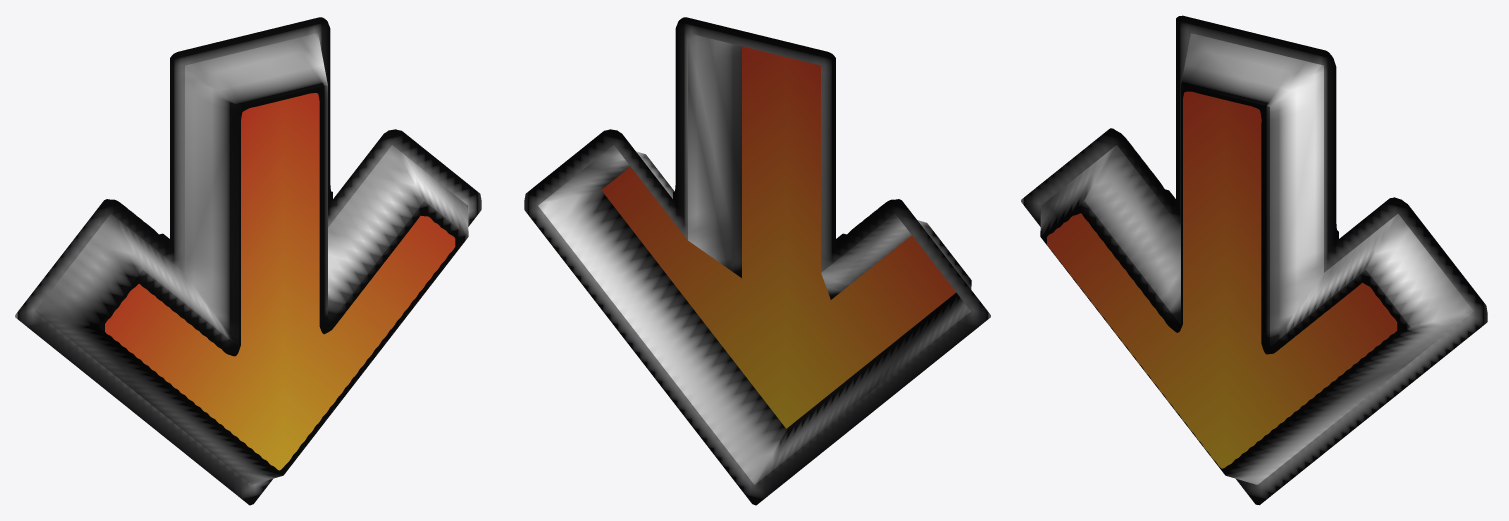
Rendered from Cel.fbx.
The picture shows the model from 3 angles, left to right: view 1: azimuth 30°, elevation 25°; view 2: azimuth 150°, elevation 25°; view 3: azimuth 330°, elevation 25°; orthographic projection.
Parts seen in each view (by area): view 1: cel.002; view 2: cel.002; view 3: cel.002.
Part boxes in pixels (box(x1,y1,x2,y2)): cel.002: box(15, 17, 481, 505); cel.002: box(524, 17, 990, 505); cel.002: box(1021, 15, 1487, 505).
Bounding box in the file's own units: 64.14 × 7.5 × 61.07.
